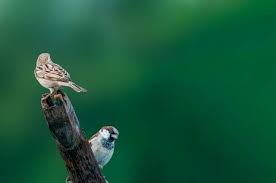home_sparrow: (57, 120, 128, 183), (20, 47, 89, 103)
